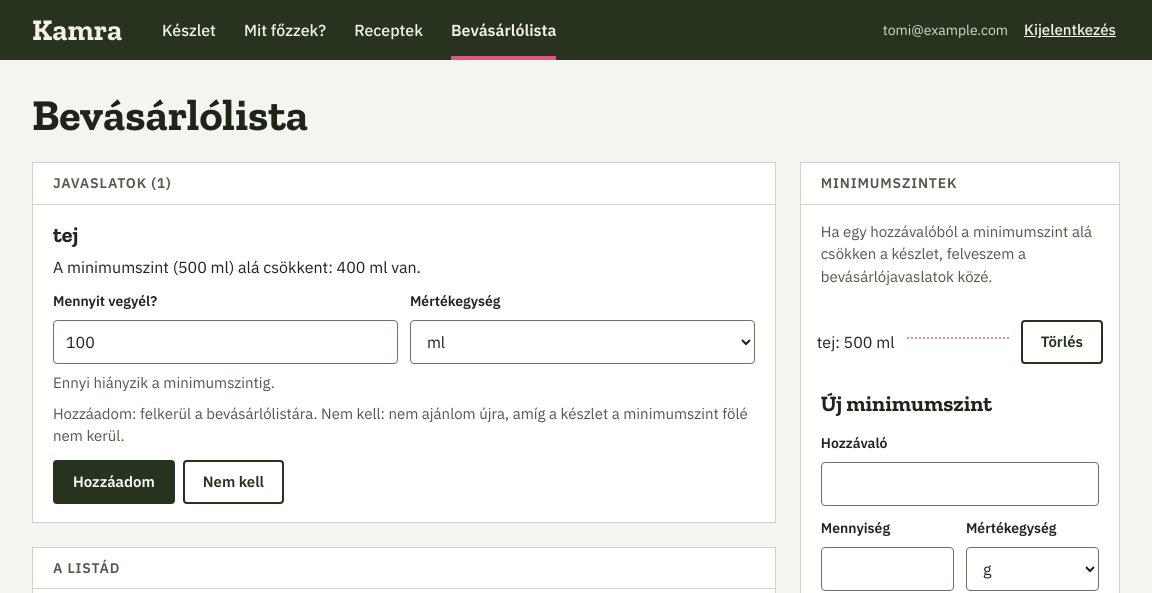
Test: shopping suggestions › explains a below-minimum suggestion and accepts the prefilled amount
The image size is (1152, 593).
Expected: the element "tej" shows "A minimumszint (500 ml) alá csökkent: 400 ml van.", [53,257,421,277]
Expected: the number field labelled "Mennyit vegyél?" holds "100", [53,320,398,364]
Select "l" in the dropdown labelled "Mértékegység" below "Mennyit vegyél?" at (582, 342), box [410,320,755,364]
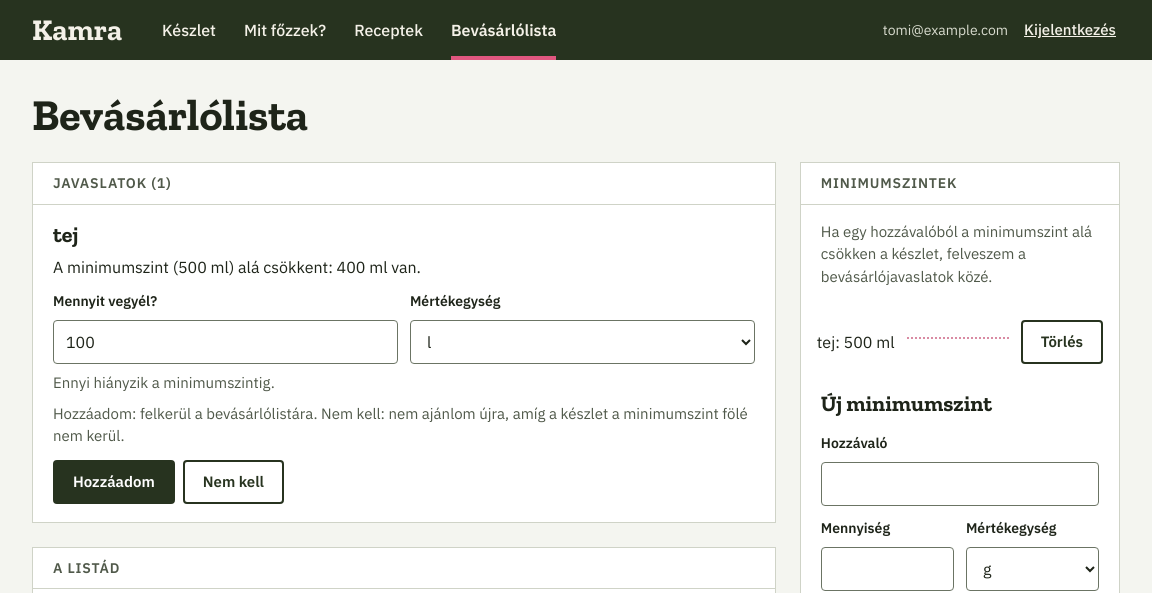
Replace the text in the number field labelled "Mennyit vegyél?" with "1" at (225, 342), box [53,320,398,364]
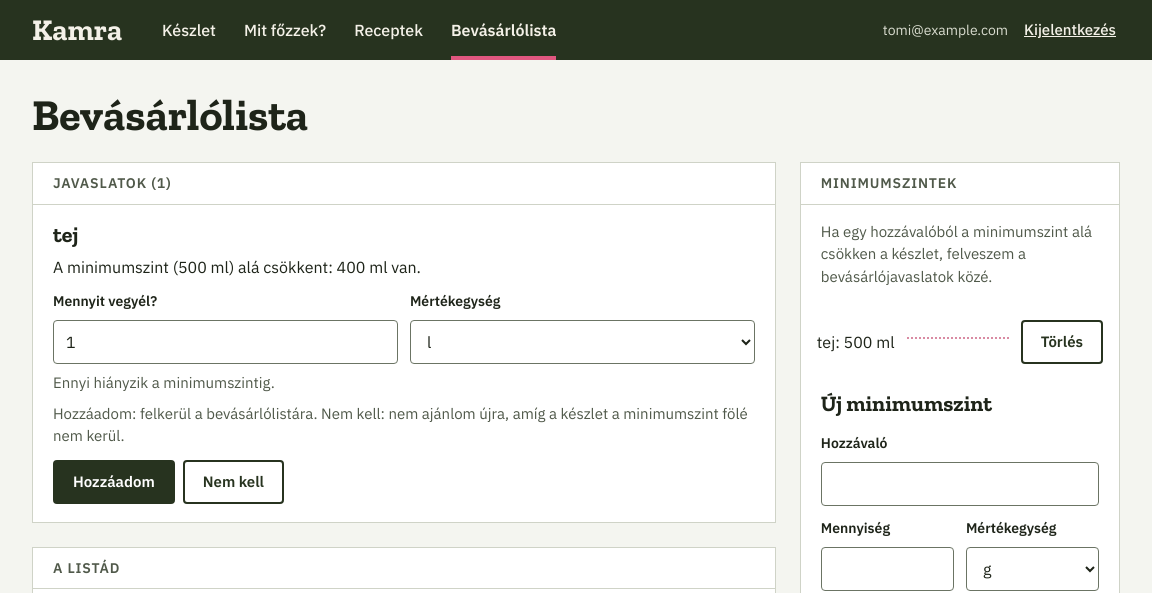
Click the button "Hozzáadom".
click(114, 482)  # box [53,460,175,504]
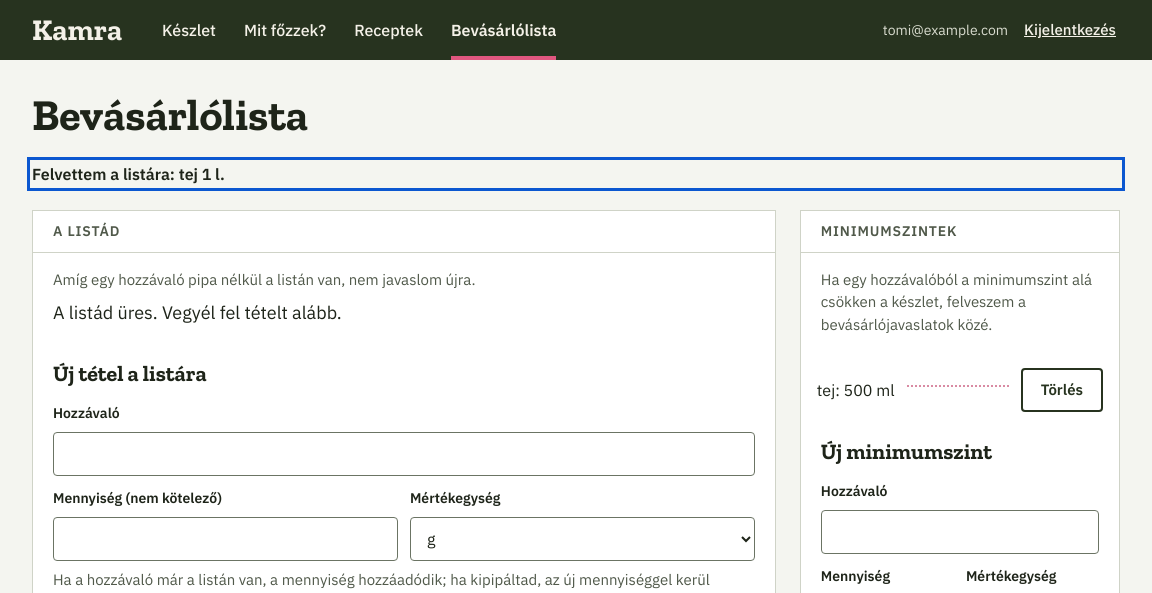
Result: the text "Felvettem a listára: tej 1 l." is shown at [32,164,225,184]
